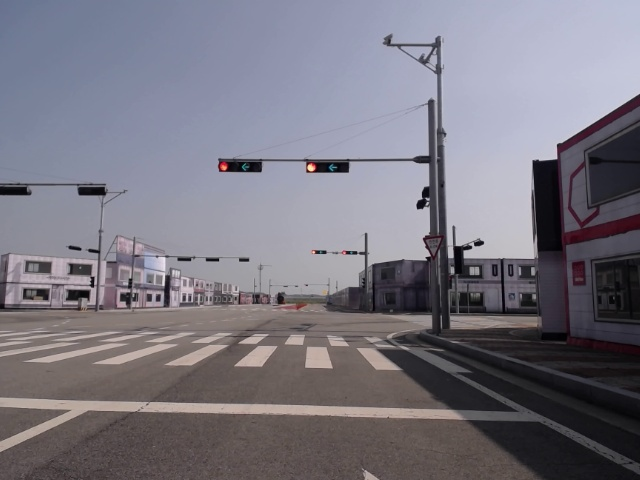left_green_4: (219, 159, 262, 173), (307, 161, 348, 174), (311, 250, 326, 254), (343, 251, 357, 255)
